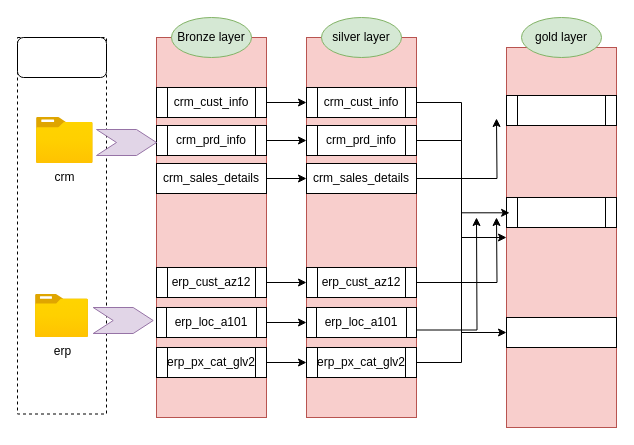
The diagram is 634 pixels wide and 445 high, and some of its shapes have lost their labels. Each missing label, with the centre of its shape:
"dim_customers" goes at [561,212].
"dim_products" goes at [561,332].
"fact_sales" goes at [561,110].
"sources" goes at [61,57].
